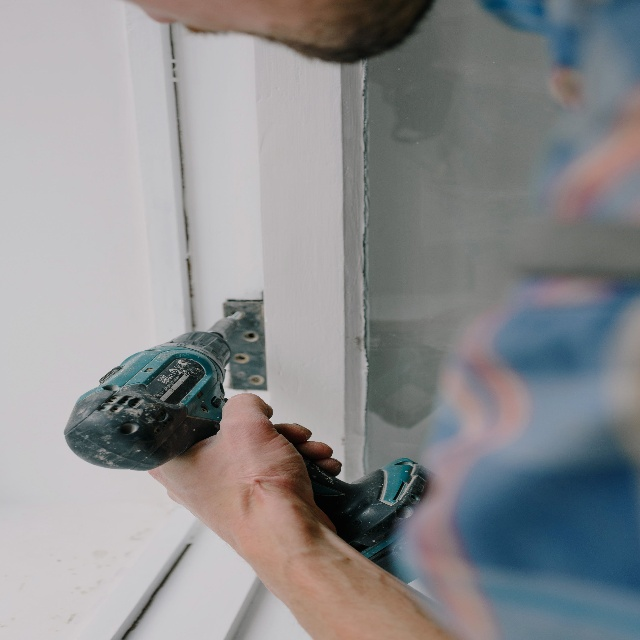Sin_guantes: (146, 392, 345, 582)
